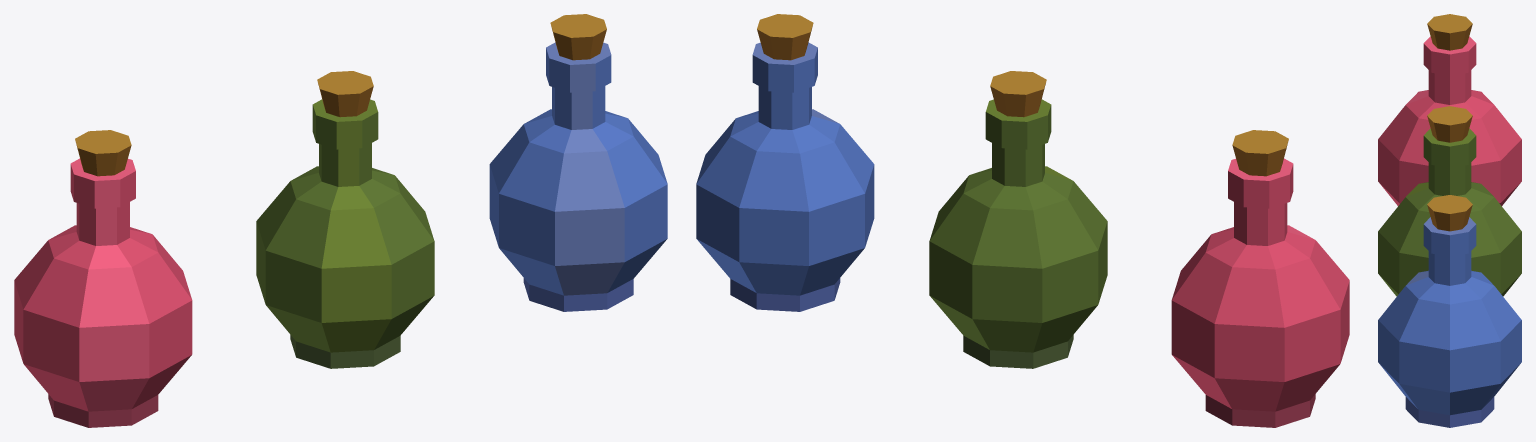
File: Zelia.fbx
3 renders of one model, left to right at view 1: azimuth 30°, elevation 25°; view 2: azimuth 150°, elevation 25°; view 3: azimuth 270°, elevation 25°, orthographic. The views are drawn at different scales.
Visible parts, largest first — view 1: SM_DL_Zelie_pink, SM_DL_Zelie_green, SM_DL_Zelie_blue; view 2: SM_DL_Zelie_pink, SM_DL_Zelie_green, SM_DL_Zelie_blue; view 3: SM_DL_Zelie_blue, SM_DL_Zelie_pink, SM_DL_Zelie_green.
Part boxes in pixels (left/top/right/bottom): SM_DL_Zelie_pink: left=14, top=130, right=192, bottom=427; SM_DL_Zelie_green: left=256, top=71, right=434, bottom=368; SM_DL_Zelie_blue: left=489, top=14, right=667, bottom=311; SM_DL_Zelie_pink: left=1171, top=130, right=1349, bottom=427; SM_DL_Zelie_green: left=929, top=71, right=1107, bottom=368; SM_DL_Zelie_blue: left=696, top=14, right=874, bottom=311; SM_DL_Zelie_blue: left=1378, top=195, right=1521, bottom=427; SM_DL_Zelie_pink: left=1378, top=14, right=1521, bottom=205; SM_DL_Zelie_green: left=1378, top=106, right=1521, bottom=296.
Bounding box in the file's own units: 1.56 × 0.6155 × 0.3914.
